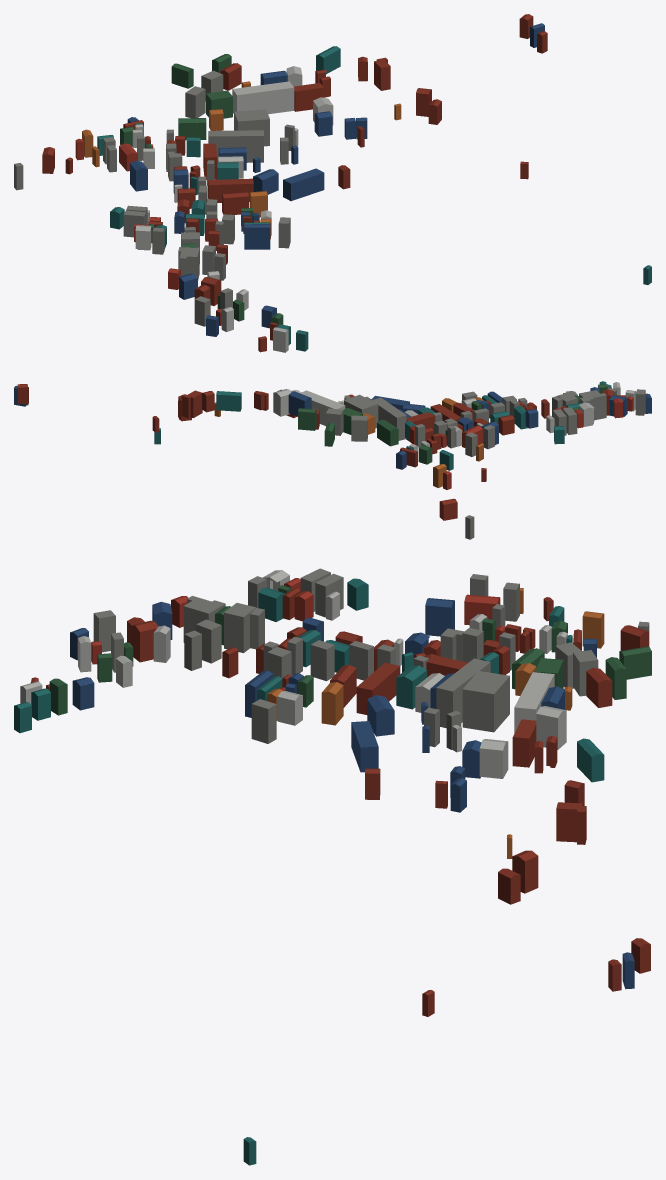
Rendered from near-16-54728-29727.eabafdde.glb.
3 renders of one model, top to bottom at view 1: azimuth 30°, elevation 25°; view 2: azimuth 150°, elevation 25°; view 3: azimuth 270°, elevation 25°, orthographic. The views are drawn at different scales.
Size of the model in its own units: 566 by 209 by 412.
